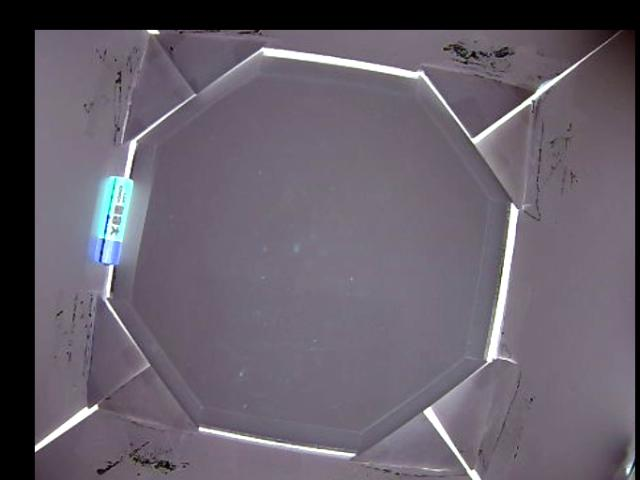Battery: (95, 174, 132, 266)
